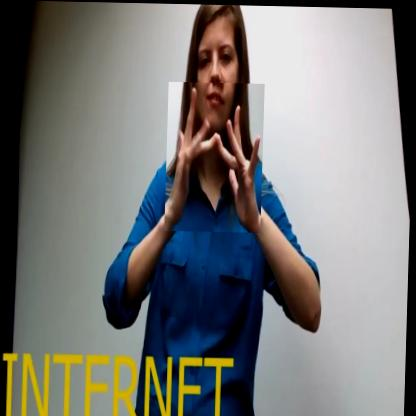Internet: (166, 81, 265, 232)
